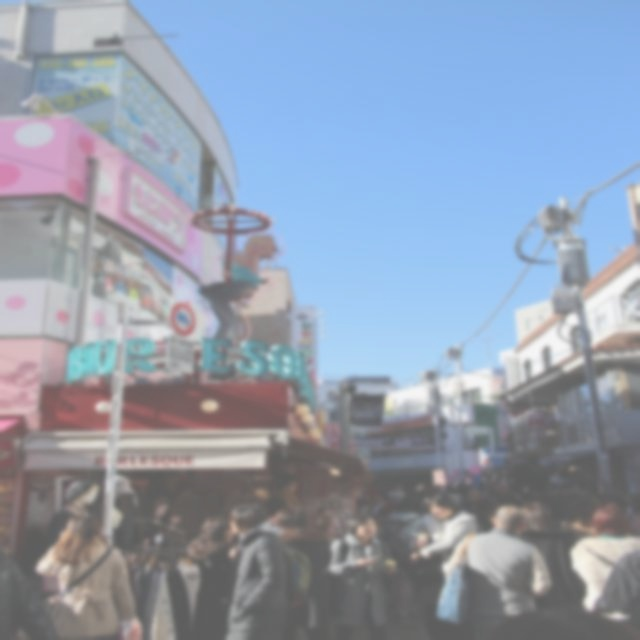pessoa: (434, 504, 554, 640), (34, 513, 140, 640), (222, 503, 313, 639), (403, 490, 483, 640), (323, 511, 399, 639), (194, 234, 278, 342), (272, 507, 334, 639), (570, 504, 640, 620), (184, 515, 239, 640), (430, 467, 614, 502), (517, 502, 574, 612), (576, 550, 640, 640), (102, 474, 140, 548), (354, 481, 426, 514), (372, 514, 422, 556), (44, 479, 100, 516), (549, 503, 602, 542), (248, 472, 298, 512), (526, 405, 560, 449), (393, 574, 416, 624), (462, 503, 496, 532), (623, 493, 640, 537), (46, 517, 68, 547), (614, 380, 626, 410)
